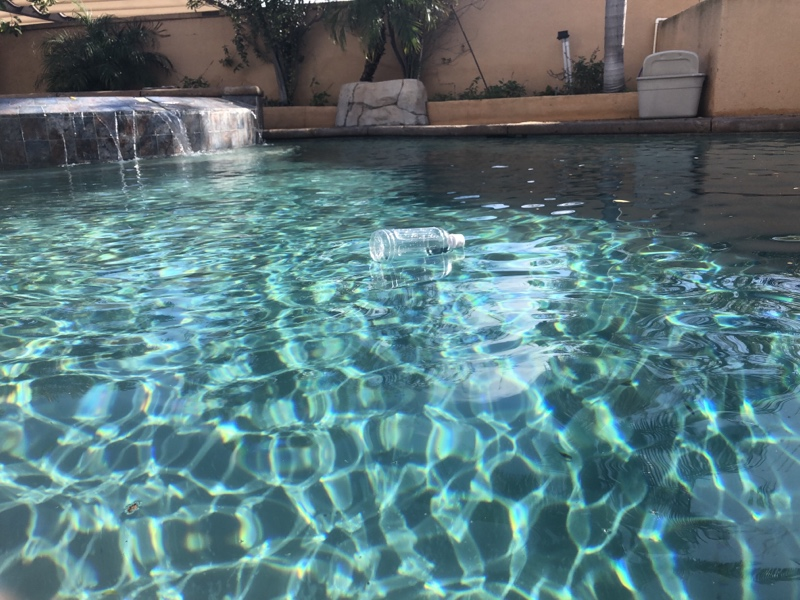Plastic Bottle: (367, 223, 468, 263)
